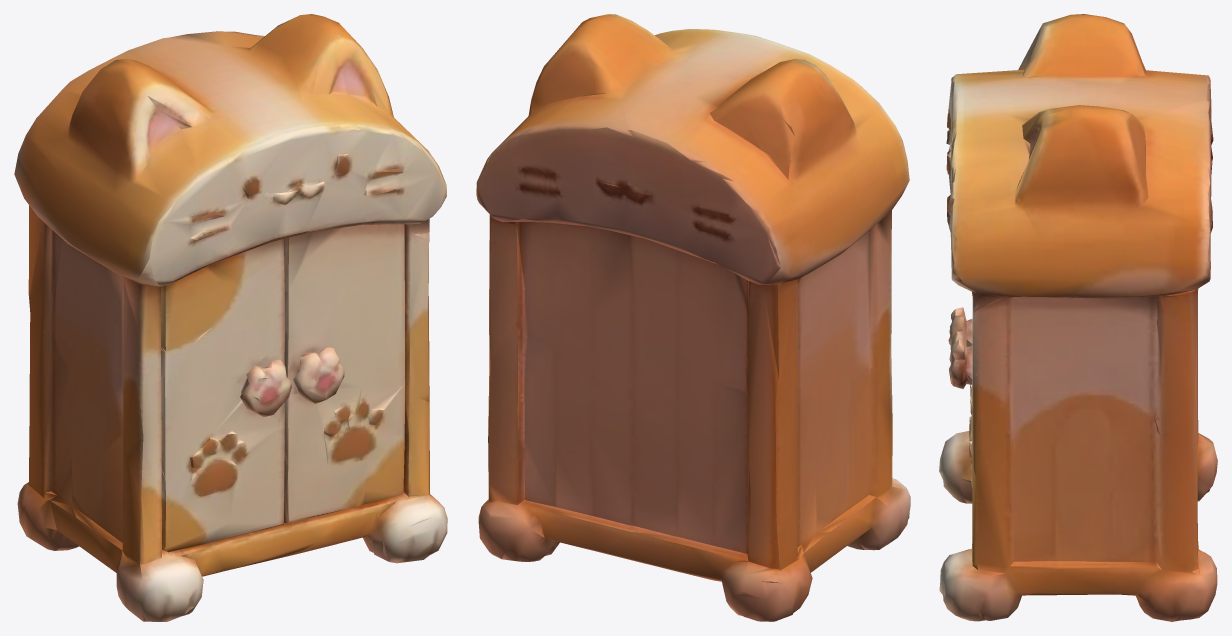
The model's file is cabinet20.glb.
The picture shows the model from 3 angles, left to right: view 1: azimuth 30°, elevation 25°; view 2: azimuth 150°, elevation 25°; view 3: azimuth 270°, elevation 25°; orthographic projection. The views are drawn at different scales.
Bounding box in the file's own units: 0.2057 × 0.3105 × 0.1601.
Materials: 1 (1 with a texture image).
